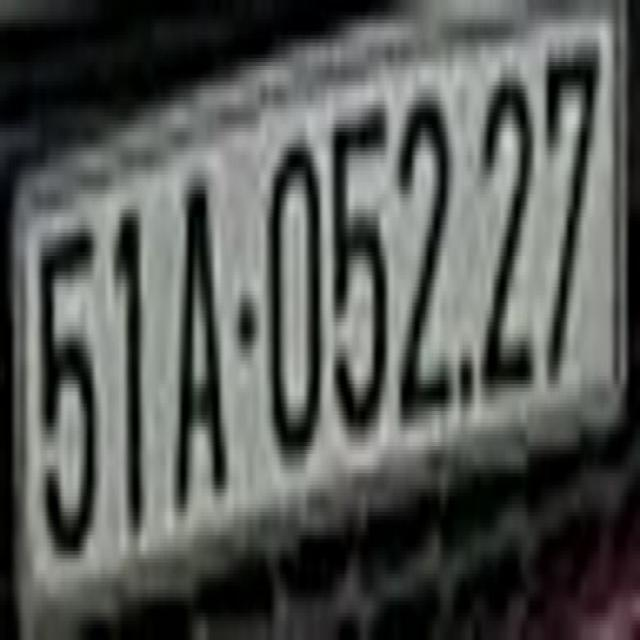0: (262, 132, 322, 481)
1: (113, 206, 150, 558)
2: (397, 89, 453, 419), (478, 73, 532, 396)
5: (39, 224, 99, 566), (333, 109, 391, 438)
7: (544, 47, 602, 400)
A: (172, 174, 229, 524)
